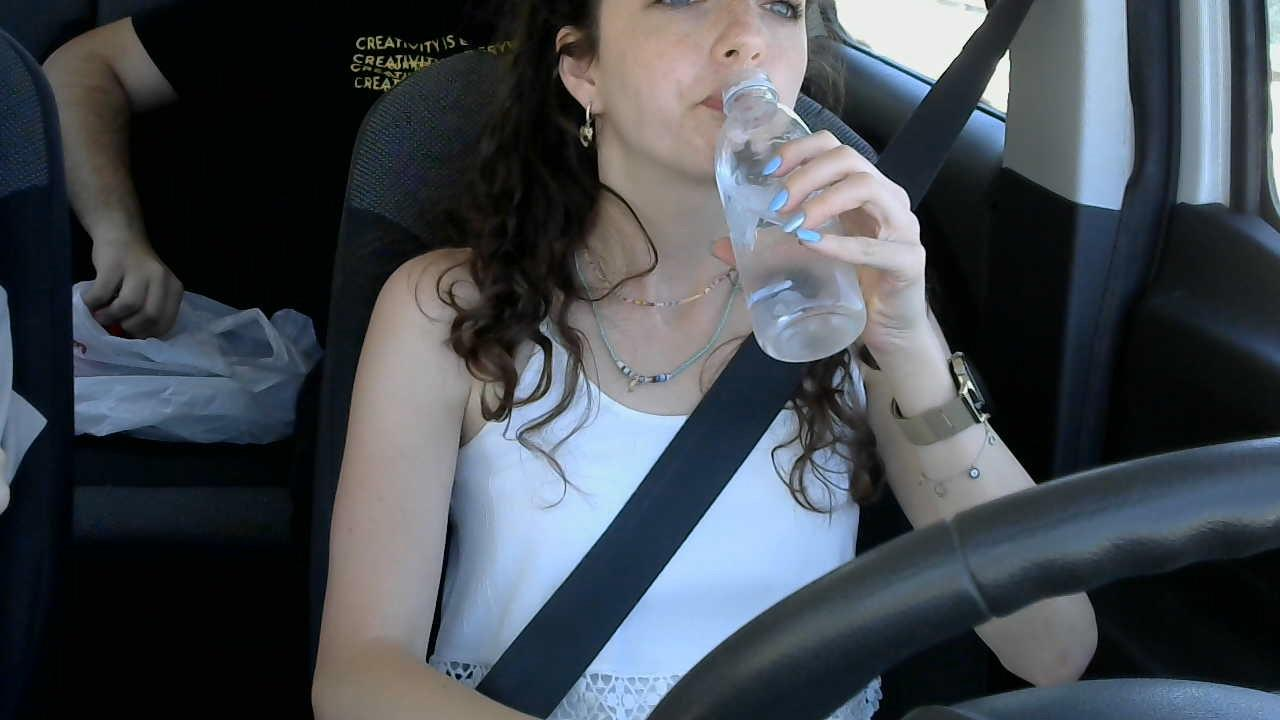Drinking: (720, 67, 870, 366)
